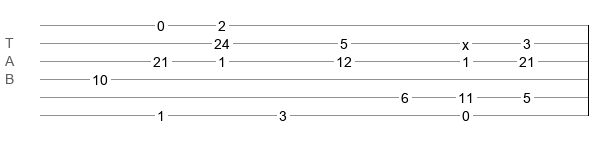0: (157, 18, 165, 28), (462, 108, 470, 118)
1: (157, 108, 165, 118), (218, 54, 226, 64), (462, 54, 470, 64)
10: (92, 72, 108, 82)
11: (458, 90, 474, 100)
12: (336, 54, 352, 64)
2: (218, 18, 226, 28)
21: (153, 54, 169, 64), (519, 54, 535, 64)
24: (214, 36, 230, 46)
3: (279, 108, 287, 118), (523, 36, 531, 46)
5: (340, 36, 348, 46), (523, 90, 531, 100)
6: (401, 90, 409, 100)
x: (462, 37, 469, 45)
